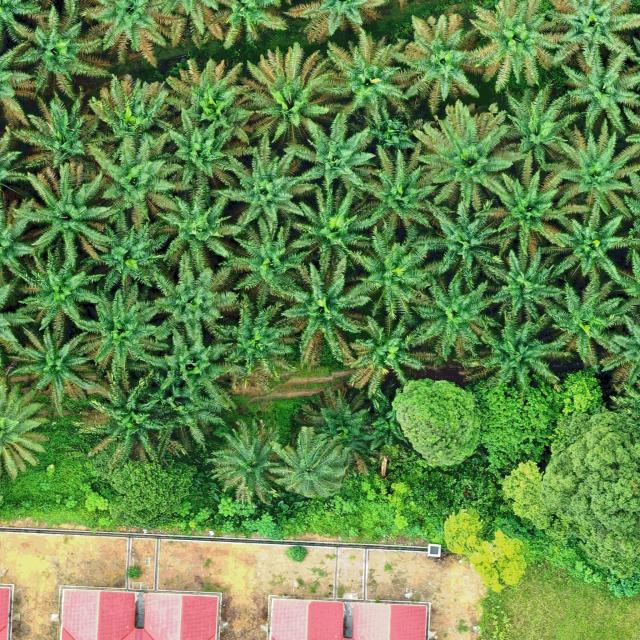Tree: (499, 404, 640, 599), (403, 100, 509, 214), (458, 299, 574, 403), (236, 41, 344, 148), (8, 84, 121, 183), (11, 164, 117, 268), (1, 1, 113, 99), (281, 254, 374, 369), (384, 12, 485, 116), (484, 158, 588, 257), (140, 326, 247, 422), (79, 127, 186, 222), (74, 280, 171, 382), (209, 146, 318, 236), (3, 319, 97, 423), (464, 372, 562, 471), (541, 126, 640, 223), (544, 275, 640, 375), (548, 198, 640, 302), (339, 222, 434, 319), (82, 370, 180, 464), (467, 0, 566, 92), (218, 216, 318, 307), (210, 292, 299, 394), (324, 21, 411, 125), (391, 376, 481, 472), (551, 44, 640, 141), (296, 382, 382, 480), (414, 198, 507, 288), (165, 54, 254, 148), (150, 250, 239, 343), (351, 140, 441, 231), (7, 246, 106, 328), (412, 270, 502, 360), (282, 108, 376, 194), (486, 87, 582, 170), (348, 312, 438, 400), (480, 246, 580, 324), (288, 188, 377, 274), (85, 210, 174, 294), (444, 509, 528, 595), (153, 102, 237, 187), (543, 0, 640, 70), (110, 455, 198, 532), (152, 190, 237, 268), (208, 418, 281, 508), (86, 70, 172, 139), (271, 430, 344, 500), (0, 383, 50, 482), (368, 105, 422, 150), (560, 367, 605, 416)
